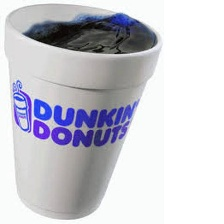paper_cup: (0, 0, 166, 224)
